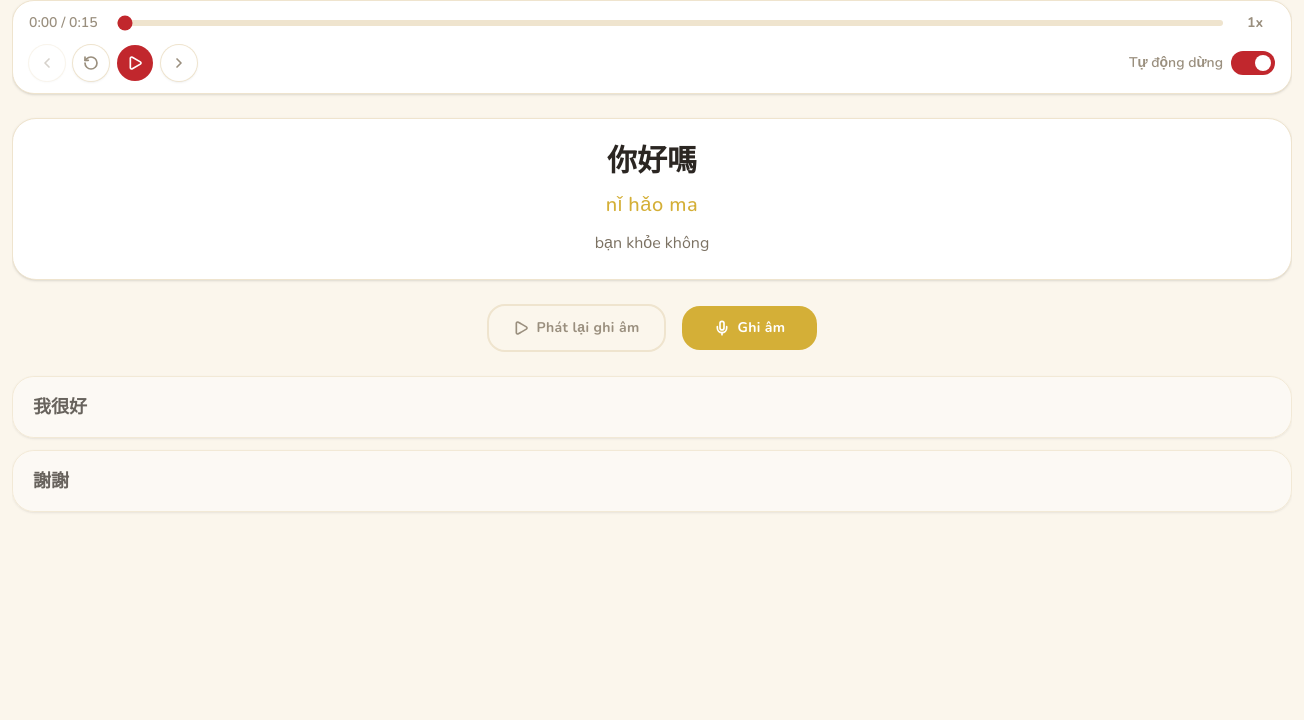
ShadowingScreen › resets audioProgress (cumulative time shows 0 progress into the new line) when a sidebar line is selected mid-playback
Click the button named "Nghe mẫu" at coordinates (135, 63), box [117,45,153,81]
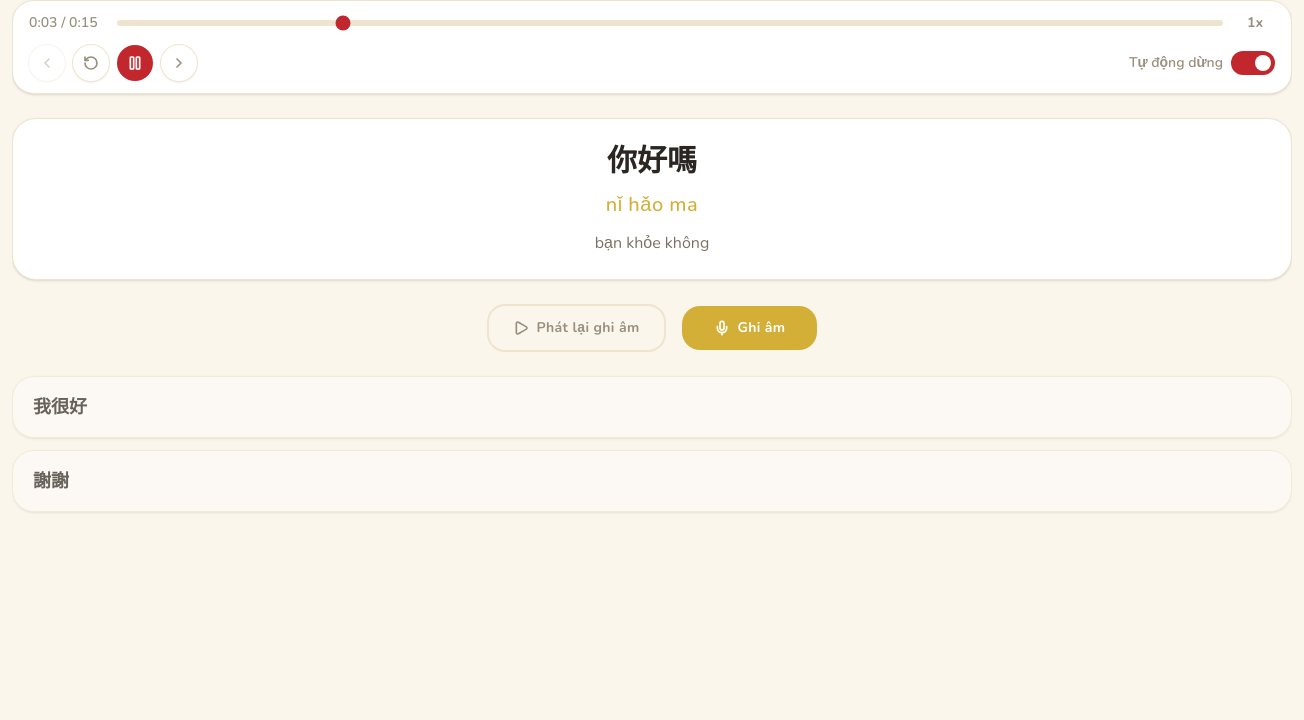
// Click a non-current sidebar line ("謝謝", index 2).
Click the button "謝謝" at coordinates (51, 481), box [12,450,1292,512]
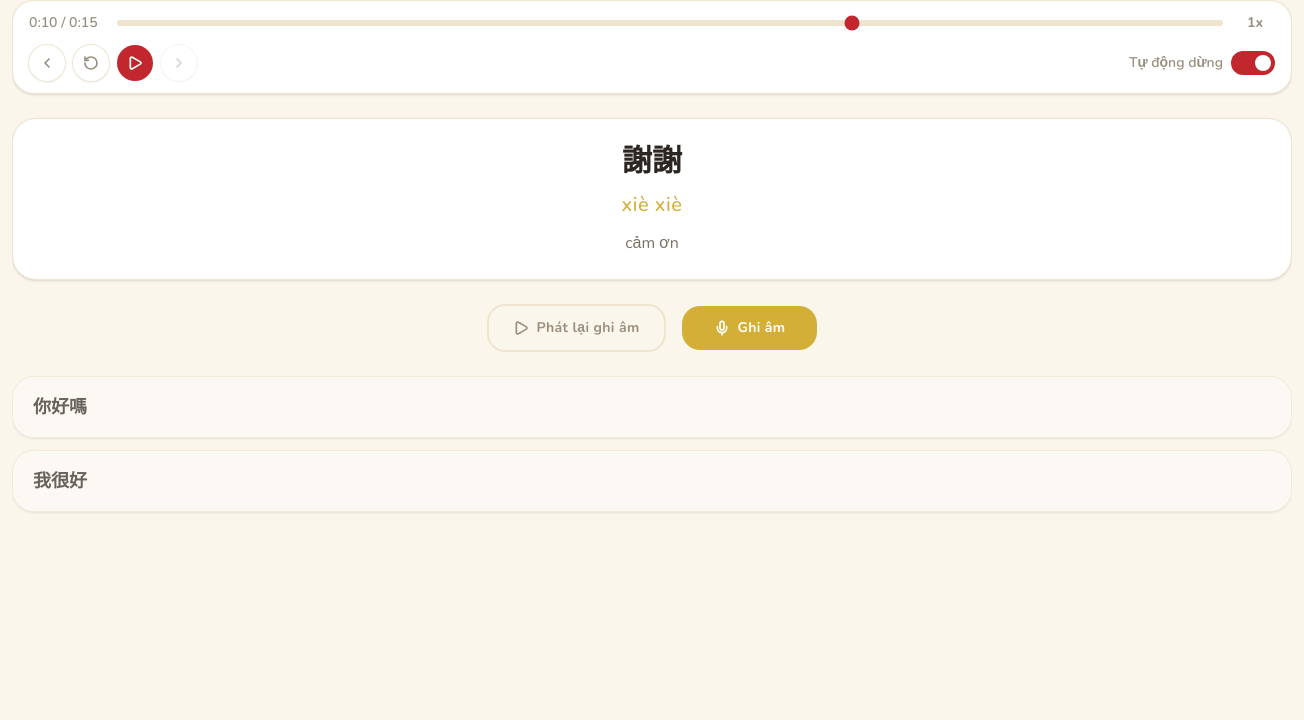
Expected: the heading "謝謝" is shown, [622,144,682,177]
